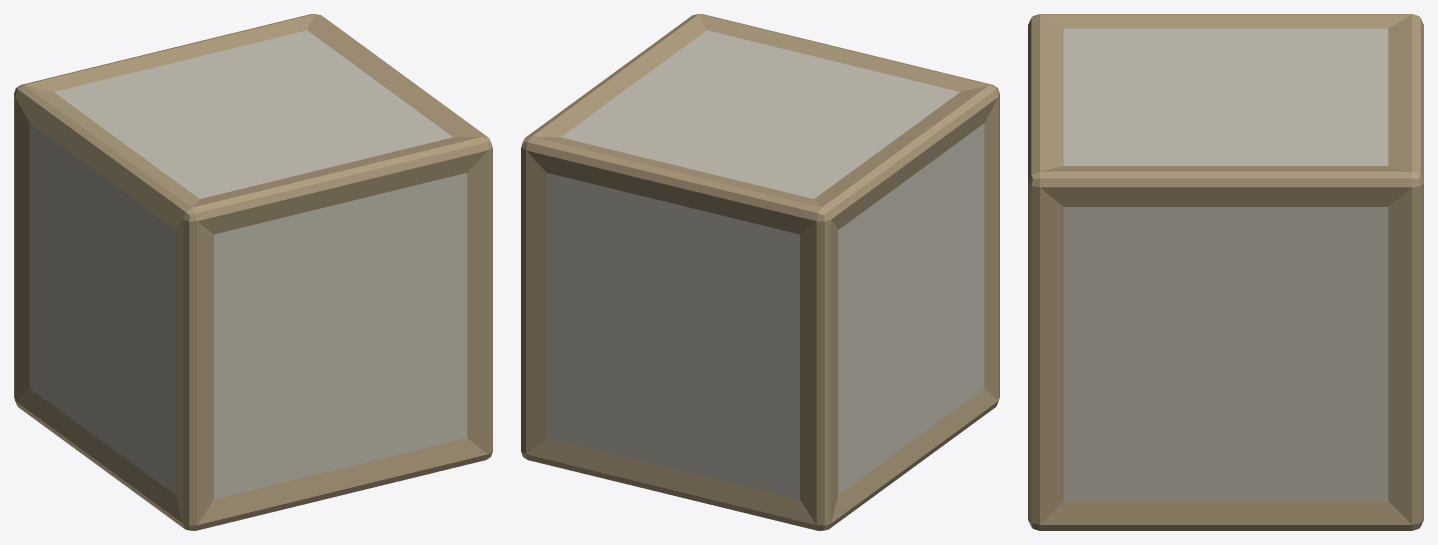
The model's file is CoreMining.glb.
3 renders of one model, left to right at view 1: azimuth 30°, elevation 25°; view 2: azimuth 150°, elevation 25°; view 3: azimuth 270°, elevation 25°, orthographic. The views are drawn at different scales.
Visible parts, largest first — view 1: CoreMining; view 2: CoreMining; view 3: CoreMining.
Part boxes in pixels (x1=…): CoreMining: x1=14, y1=14, x2=492, y2=530; CoreMining: x1=521, y1=14, x2=999, y2=530; CoreMining: x1=1028, y1=14, x2=1423, y2=530.
Size of the model in its own units: 1 by 1 by 1.
